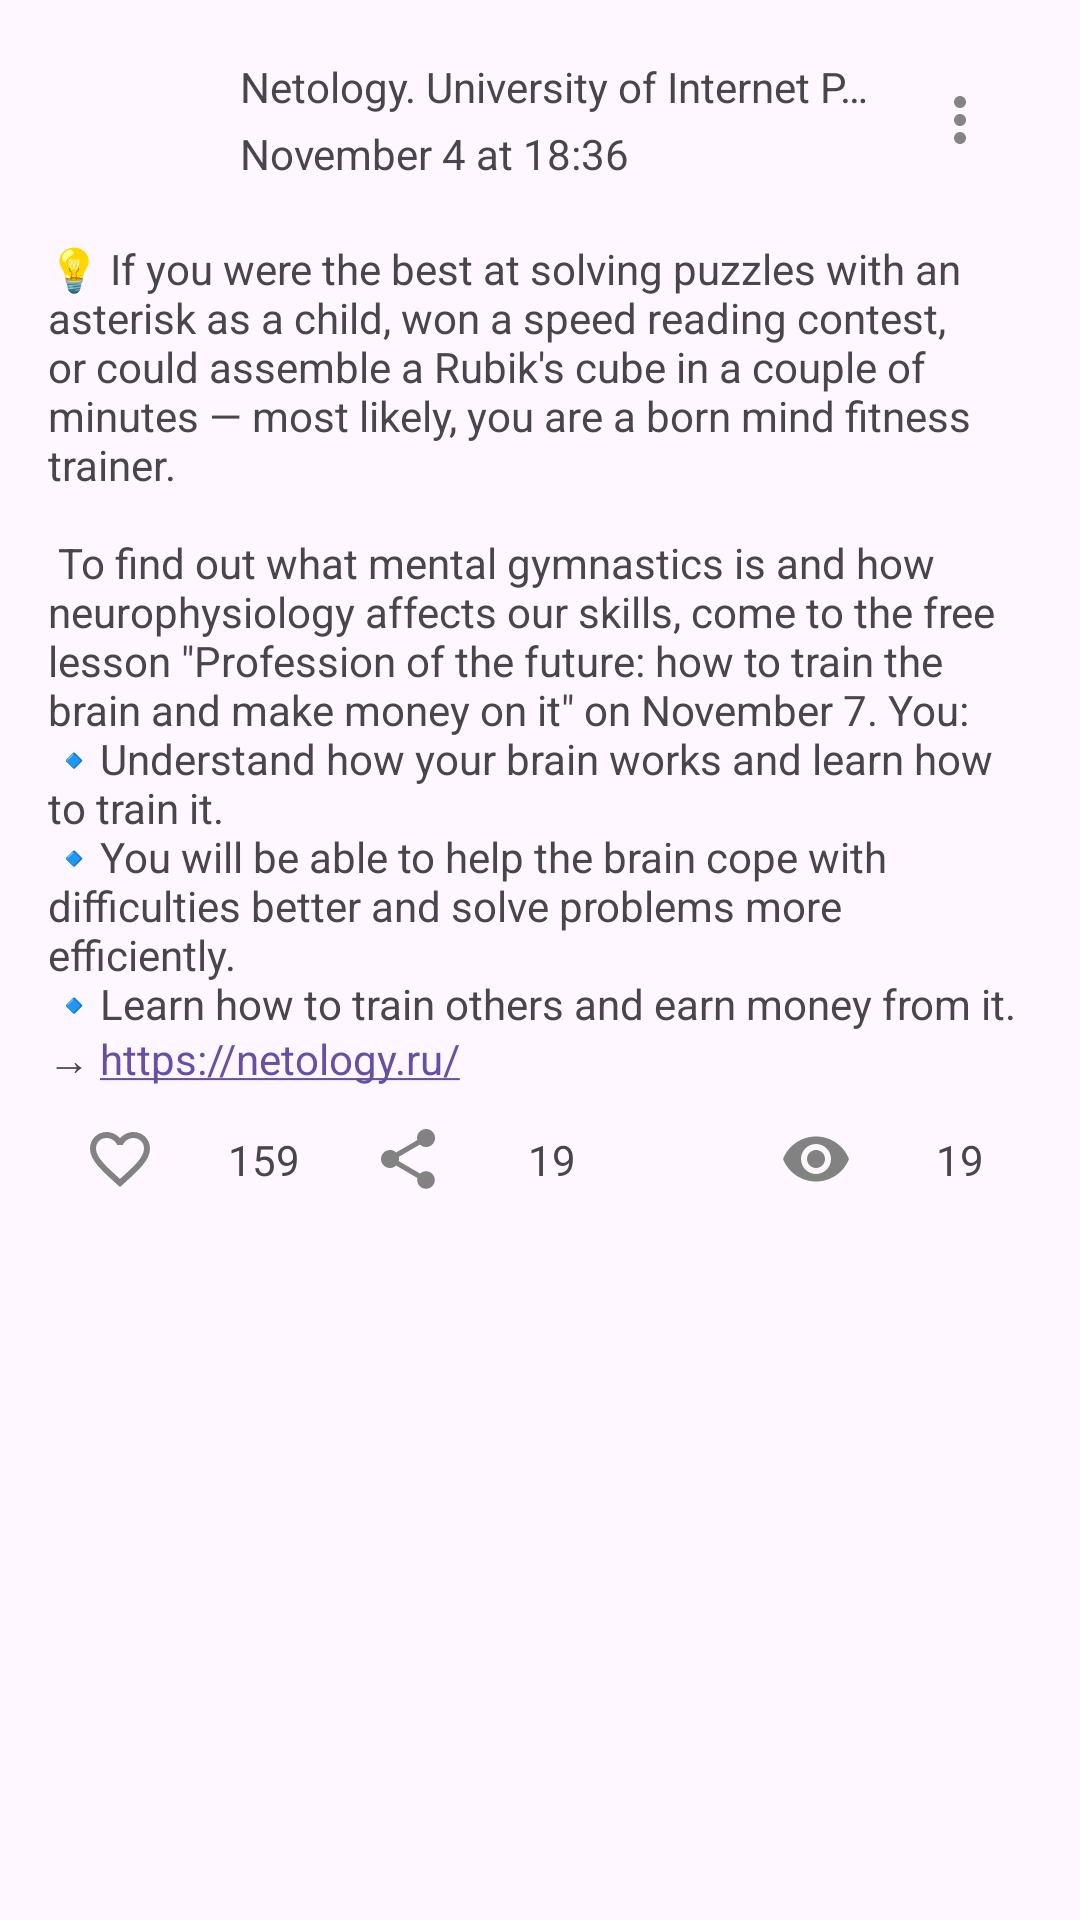

Icon bounding boxes for this 1080×1920 phone screenshot, format region(x1, y1, x2, y2):
Favorite: region(90, 1132, 150, 1187)
Menu: region(954, 96, 966, 144)
Share: region(381, 1129, 435, 1189)
Views: region(783, 1136, 849, 1182)
